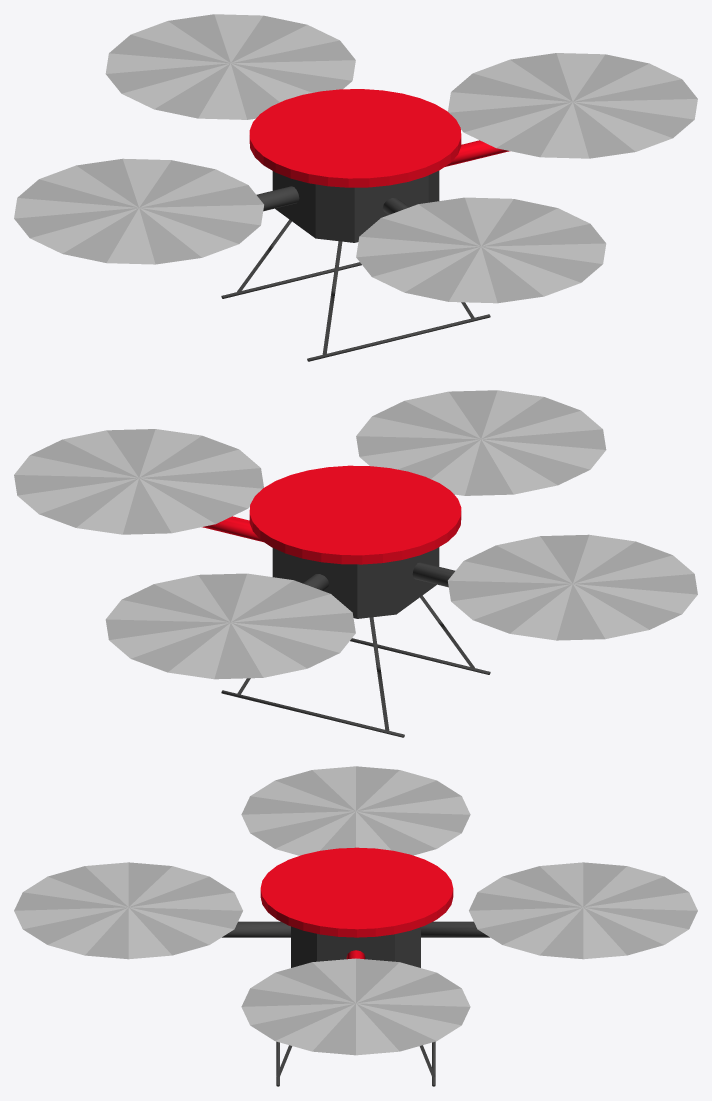
Rendered from quadrotor_base1.dae.
The picture shows the model from 3 angles, top to bottom: view 1: azimuth 30°, elevation 25°; view 2: azimuth 150°, elevation 25°; view 3: azimuth 270°, elevation 25°; orthographic projection. The views are drawn at different scales.
Visible parts, largest first — view 1: Cylinder_001; view 2: Cylinder_001; view 3: Cylinder_001.
Part boxes in pixels (left/top/right/bottom): Cylinder_001: left=14, top=14, right=697, bottom=361; Cylinder_001: left=14, top=390, right=697, bottom=737; Cylinder_001: left=14, top=766, right=697, bottom=1086.
Size of the model in its own units: 5.92 by 5.92 by 1.51.
